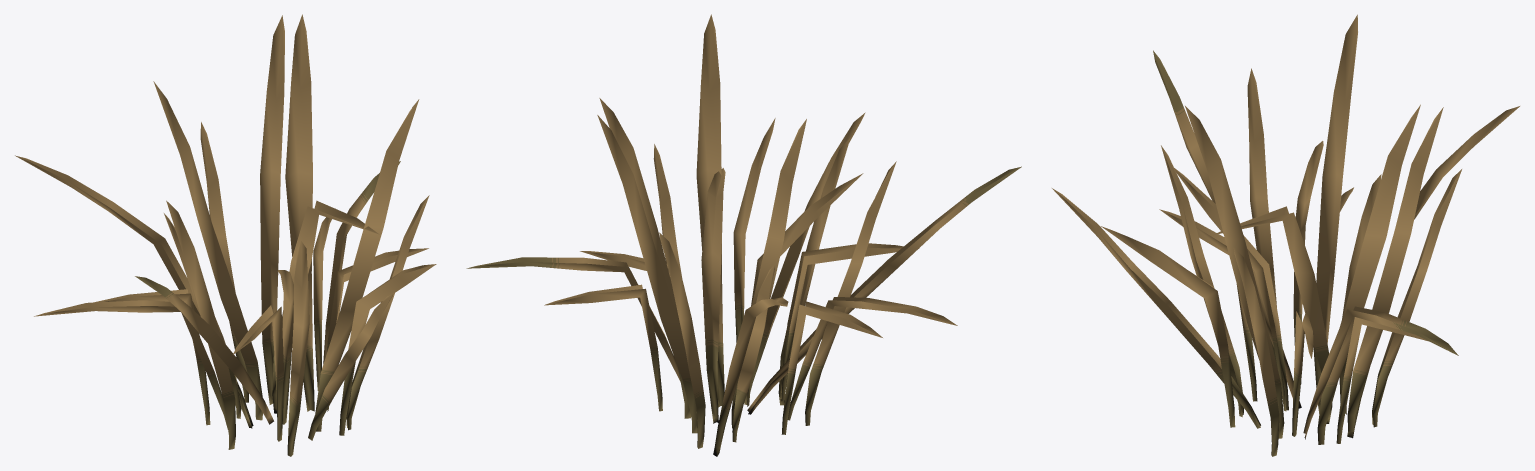
The model's file is Grass_Wispy_Short__go_village.glb.
3 views of the same model, side by side, from view 1: azimuth 30°, elevation 25°; view 2: azimuth 150°, elevation 25°; view 3: azimuth 270°, elevation 25° (orthographic). The views are drawn at different scales.
Visible parts, largest first — view 1: Grass_Wispy_Short; view 2: Grass_Wispy_Short; view 3: Grass_Wispy_Short.
Boxes of the visible parts, bbox=[...] form: Grass_Wispy_Short: bbox=[15, 14, 436, 456]; Grass_Wispy_Short: bbox=[466, 14, 1021, 456]; Grass_Wispy_Short: bbox=[1052, 14, 1519, 456].
Size of the model in its own units: 1.32 by 1.07 by 1.21.
Materials: 1 (1 with a texture image).
